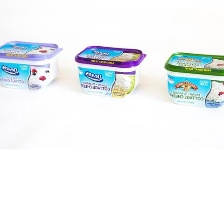plastic_box: (70, 38, 154, 102), (160, 43, 224, 113), (0, 34, 67, 95)
